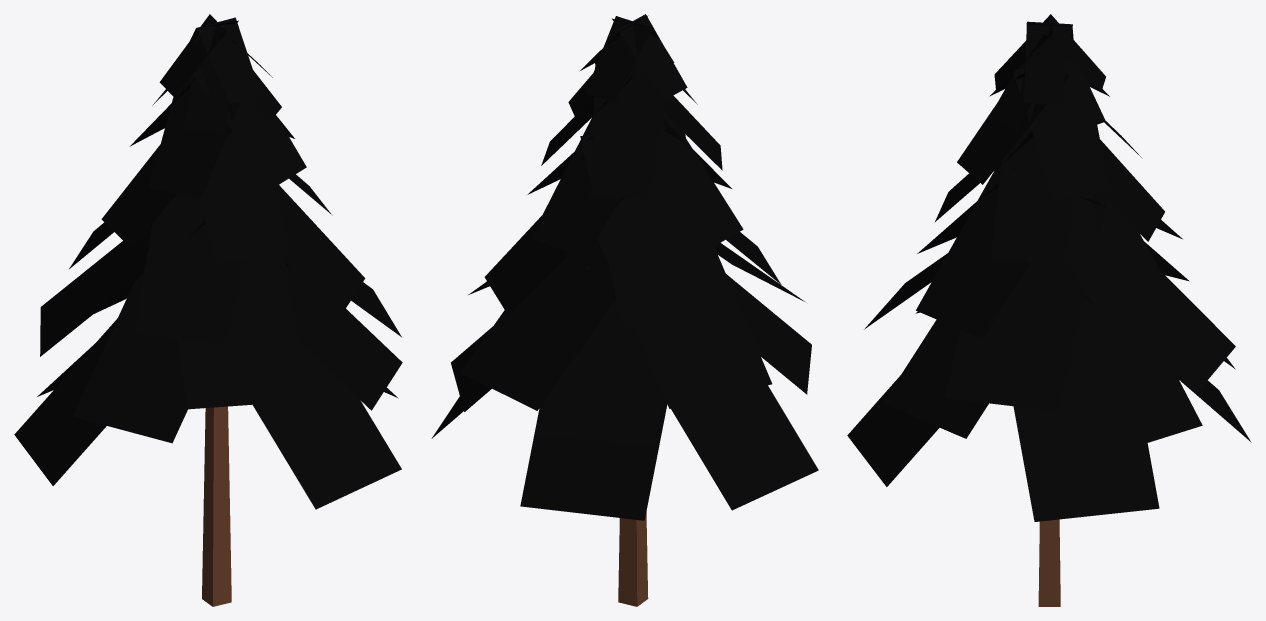
Rendered from FBX_Tree_A_2.fbx.
3 views of the same model, side by side, from view 1: azimuth 30°, elevation 25°; view 2: azimuth 150°, elevation 25°; view 3: azimuth 270°, elevation 25° (orthographic).
Visible parts, largest first — view 1: Tree_A_2; view 2: Tree_A_2; view 3: Tree_A_2.
Boxes of the visible parts, x1,y1,x2,y2 form: Tree_A_2: (14,14,402,606); Tree_A_2: (431,14,818,606); Tree_A_2: (847,14,1251,606).
Bounding box in the file's own units: 266 × 266 × 420.
